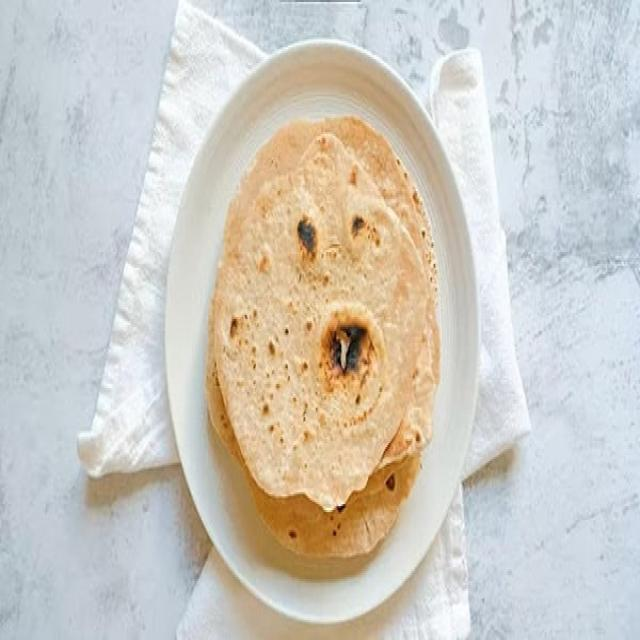chapathi: (213, 132, 434, 529)
